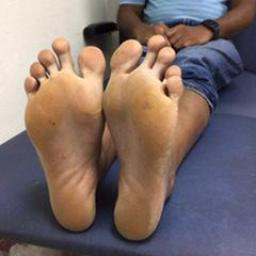Plantar View -Both Feet-: (10, 27, 188, 246)
